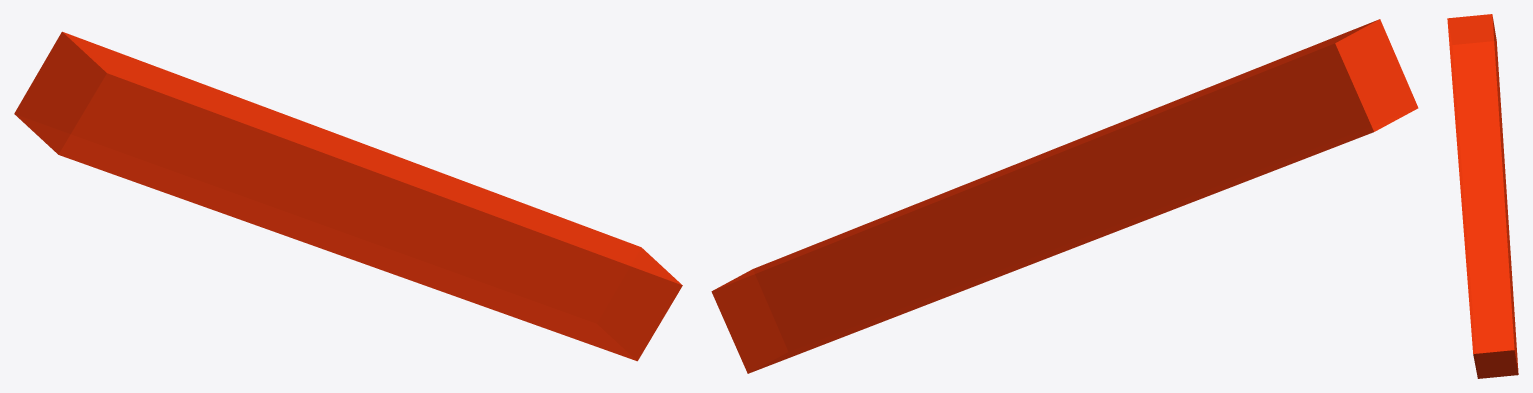
File: Event_420107950_EBrechit_6.fbx
The picture shows the model from 3 angles, left to right: view 1: azimuth 30°, elevation 25°; view 2: azimuth 150°, elevation 25°; view 3: azimuth 270°, elevation 25°; orthographic projection. The views are drawn at different scales.
Parts seen in each view (by area): view 1: Model; view 2: Model; view 3: Model.
Part boxes in pixels (x1,y1,x2,y2): Model: (14, 31, 682, 361); Model: (711, 19, 1418, 373); Model: (1447, 14, 1518, 378).
Size of the model in its own units: 0.503 by 0.3399 by 0.0962.
